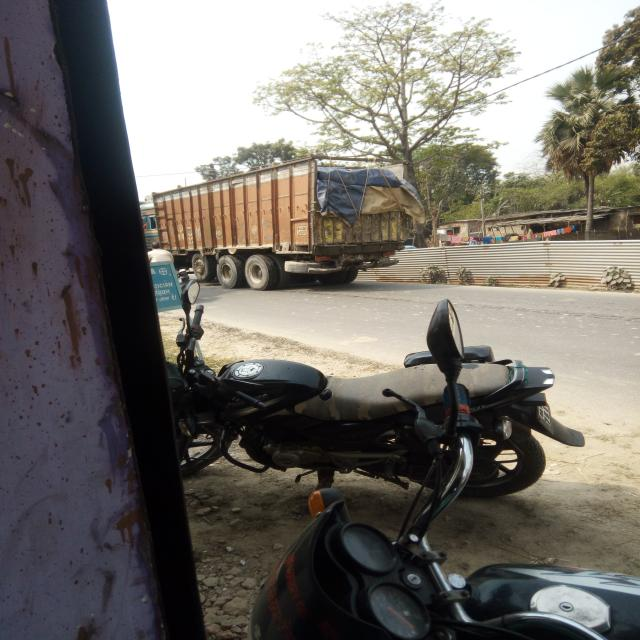Bike: (171, 314, 578, 508)
truck: (154, 159, 426, 287)
